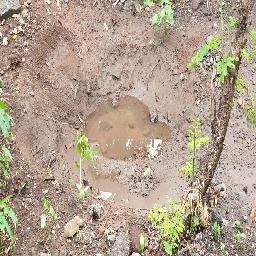water accumulation: (82, 94, 175, 161)
